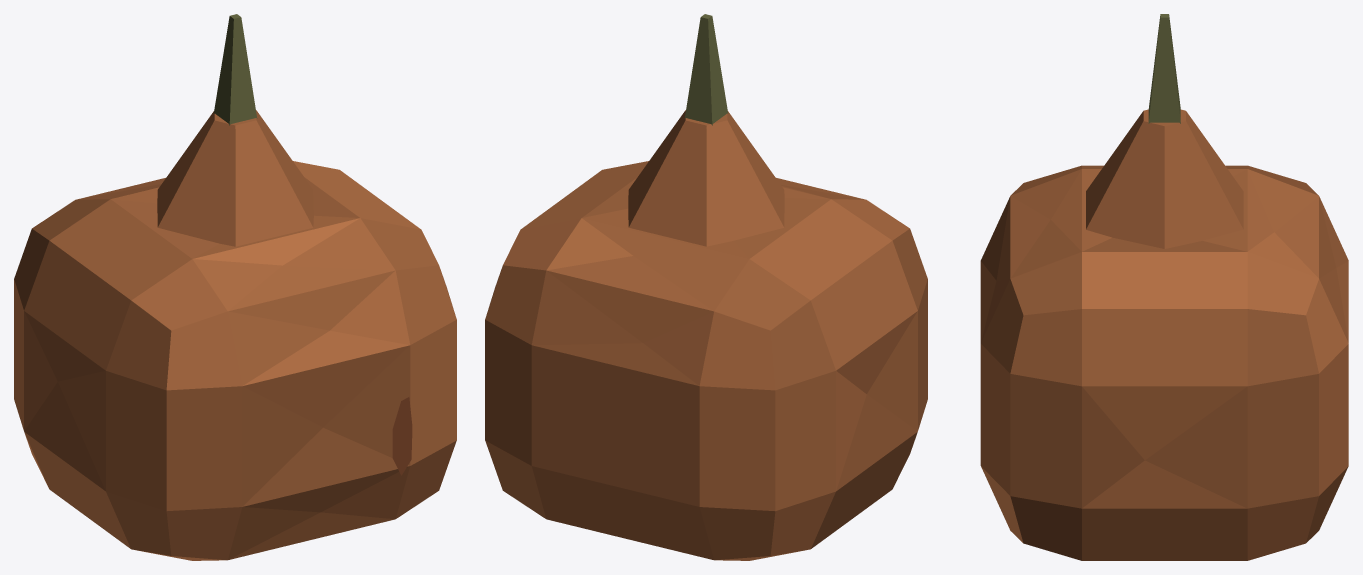
File: veg_potato_luk_idle.glb
3 views of the same model, side by side, from view 1: azimuth 30°, elevation 25°; view 2: azimuth 150°, elevation 25°; view 3: azimuth 270°, elevation 25° (orthographic).
Parts seen in each view (by area): view 1: veg_potato_luk_idle; view 2: veg_potato_luk_idle; view 3: veg_potato_luk_idle.
Part boxes in pixels (x1,y1,x2,y2): veg_potato_luk_idle: [14, 14, 456, 560]; veg_potato_luk_idle: [485, 14, 927, 560]; veg_potato_luk_idle: [980, 14, 1348, 560].
Size of the model in its own units: 0.065 by 0.09 by 0.064.
1 material, 1 textured.
